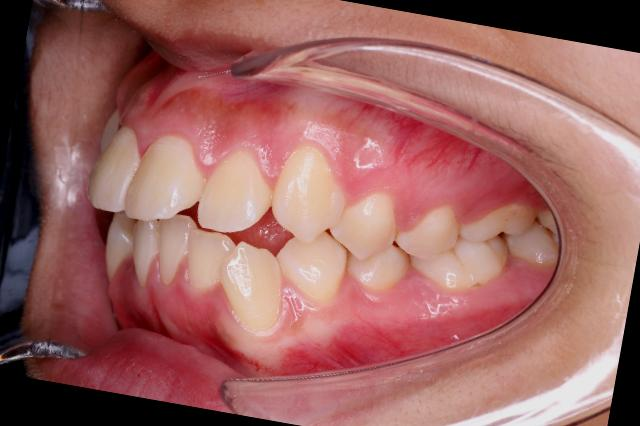canine class III 1/4: (211, 127, 373, 352)
molar class III 1/2: (404, 188, 546, 314)
